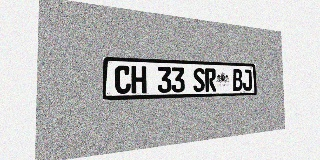3: (158, 67, 171, 93), (172, 67, 185, 93)
B: (232, 69, 243, 91)
C: (115, 65, 131, 94)
H: (131, 66, 146, 94)
J: (242, 69, 252, 91)
R: (205, 68, 216, 92)
S: (193, 68, 205, 92)
